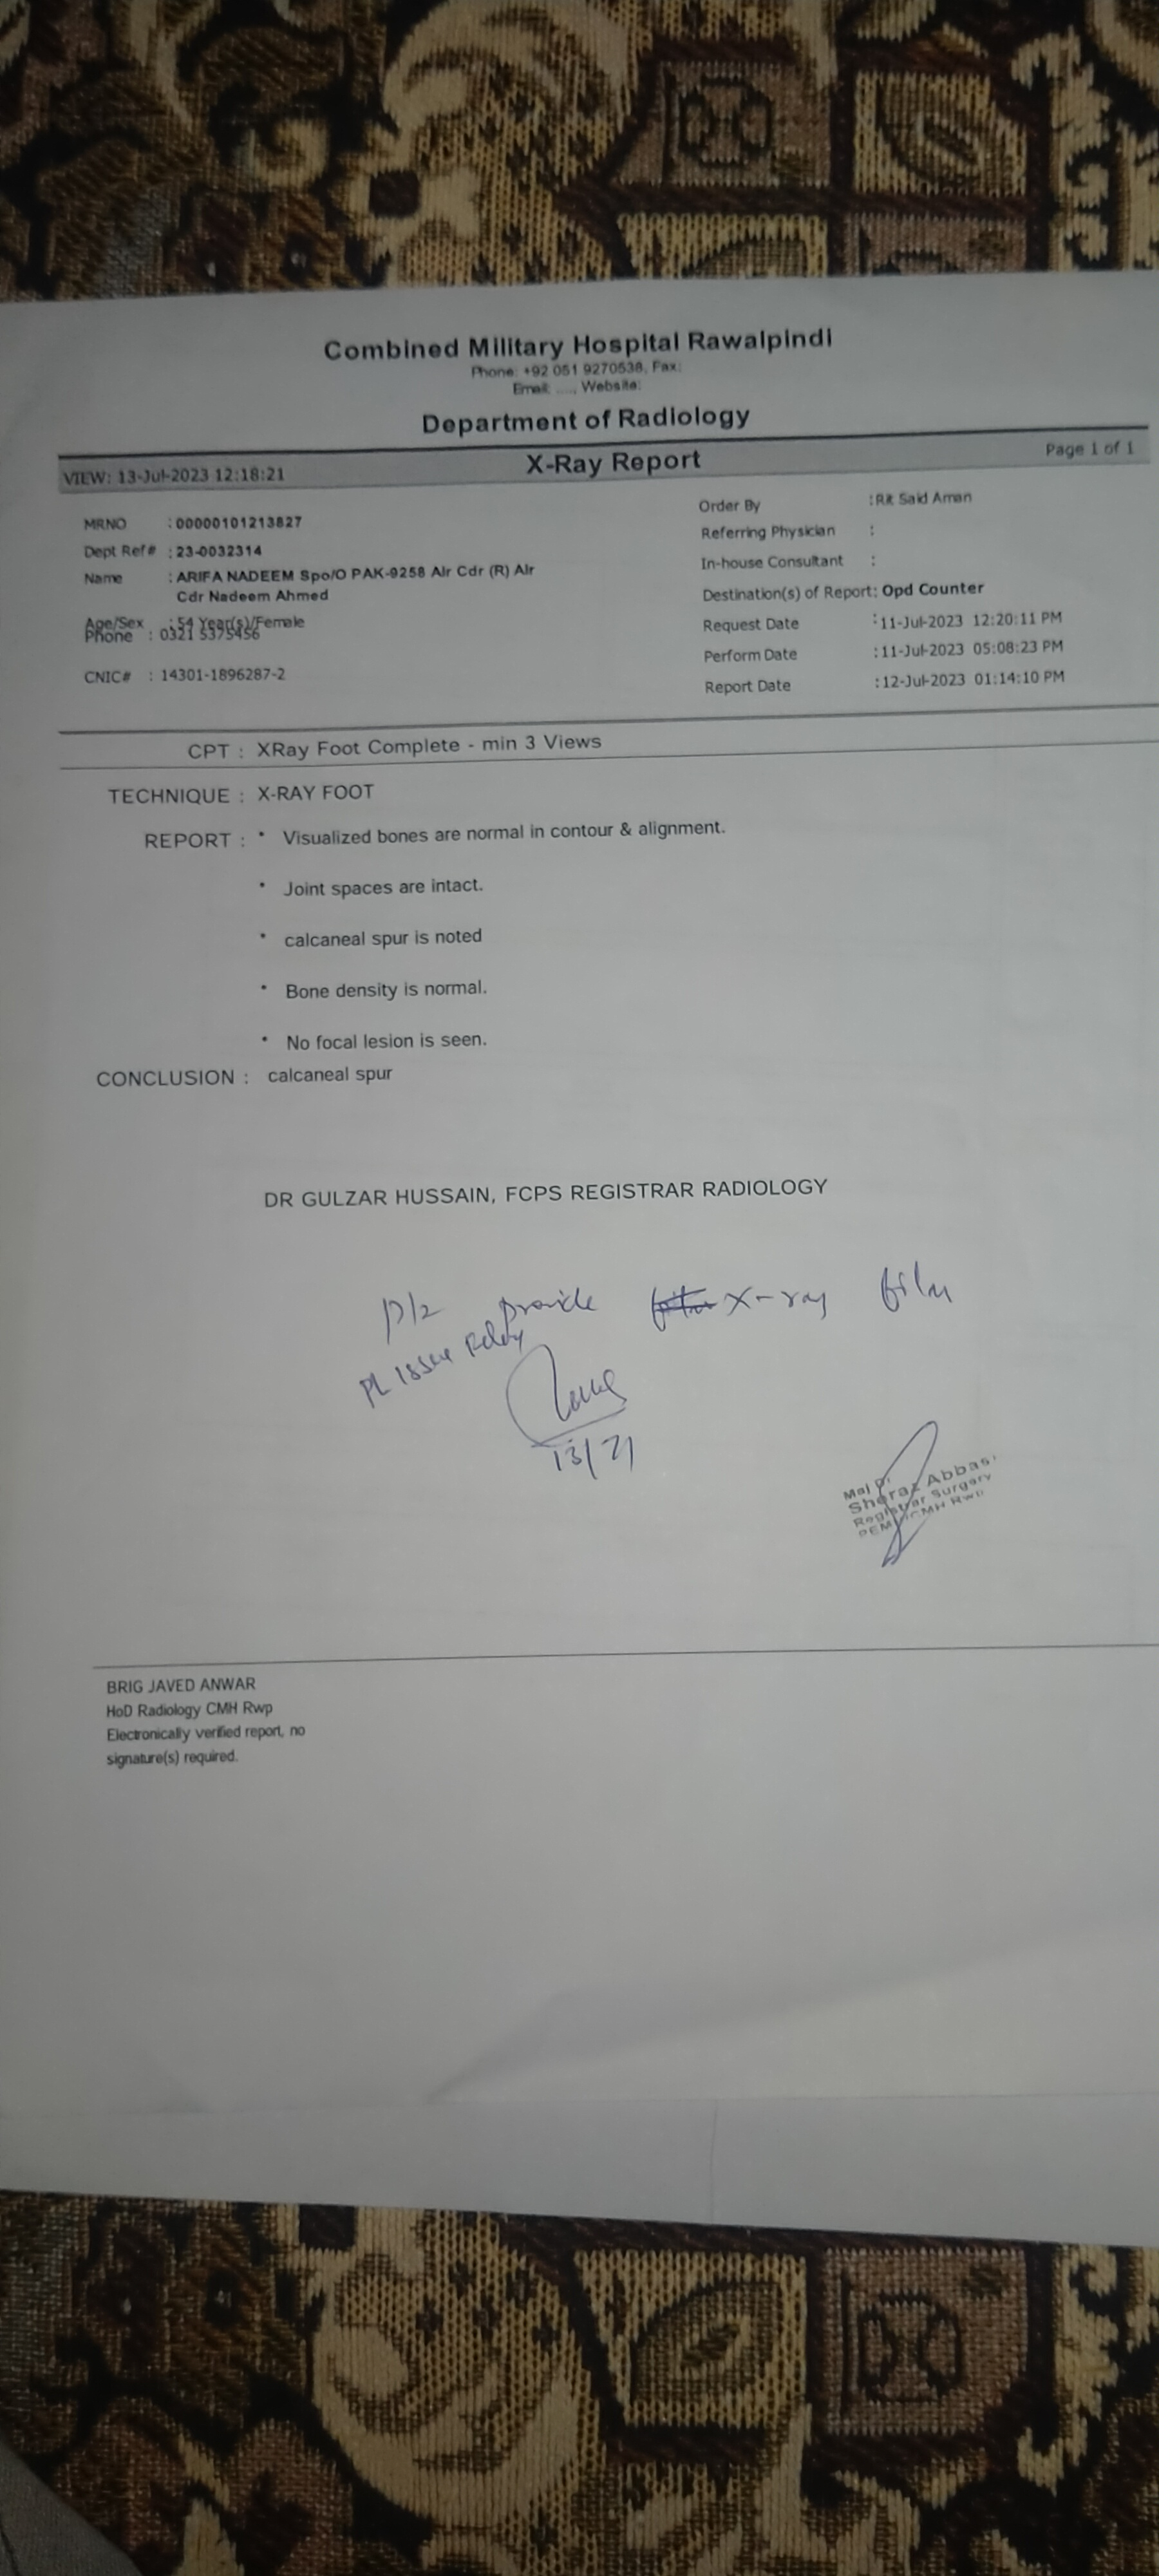report: (48, 713, 1159, 1135)
